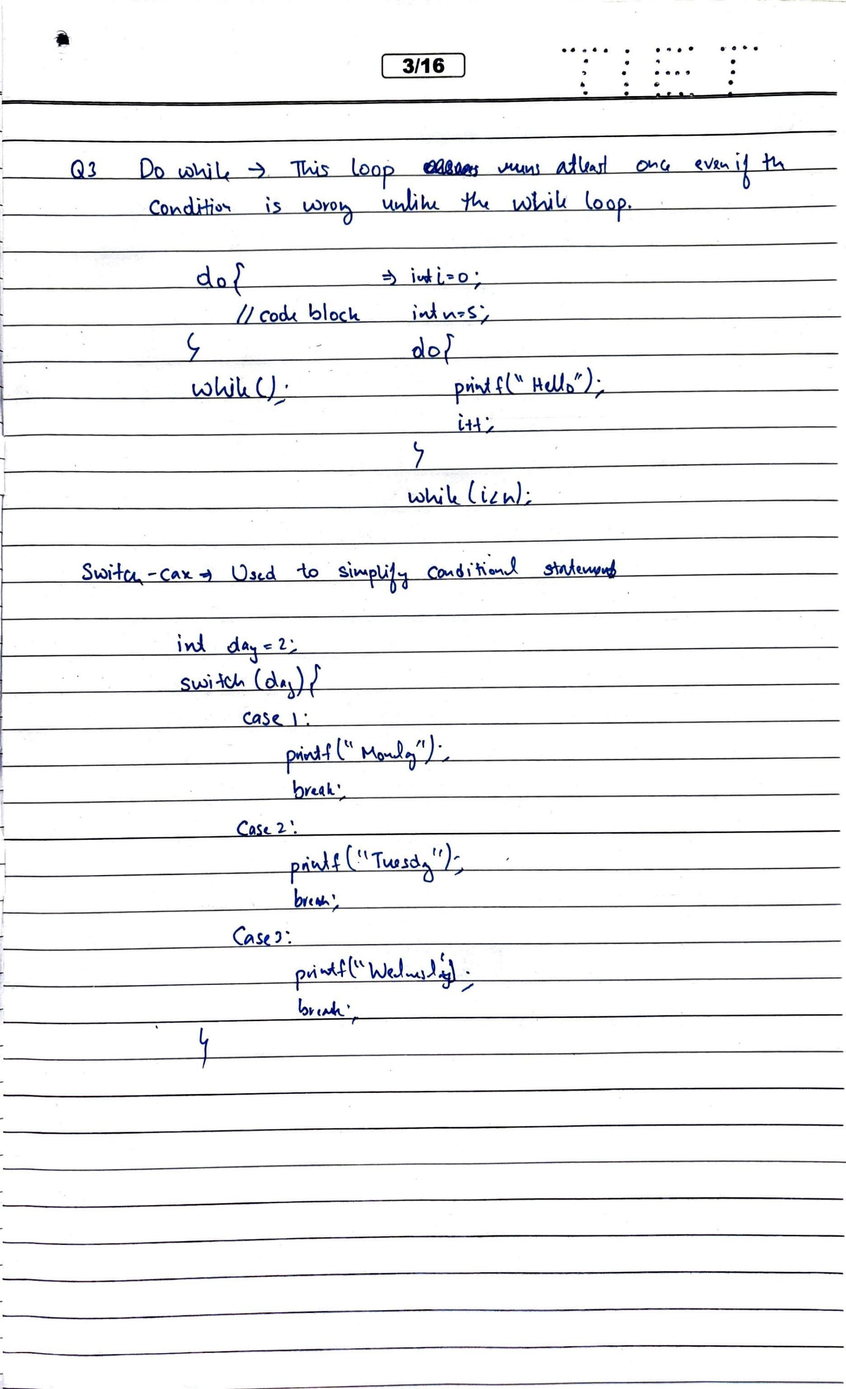cuttings: (423, 158, 480, 177)
